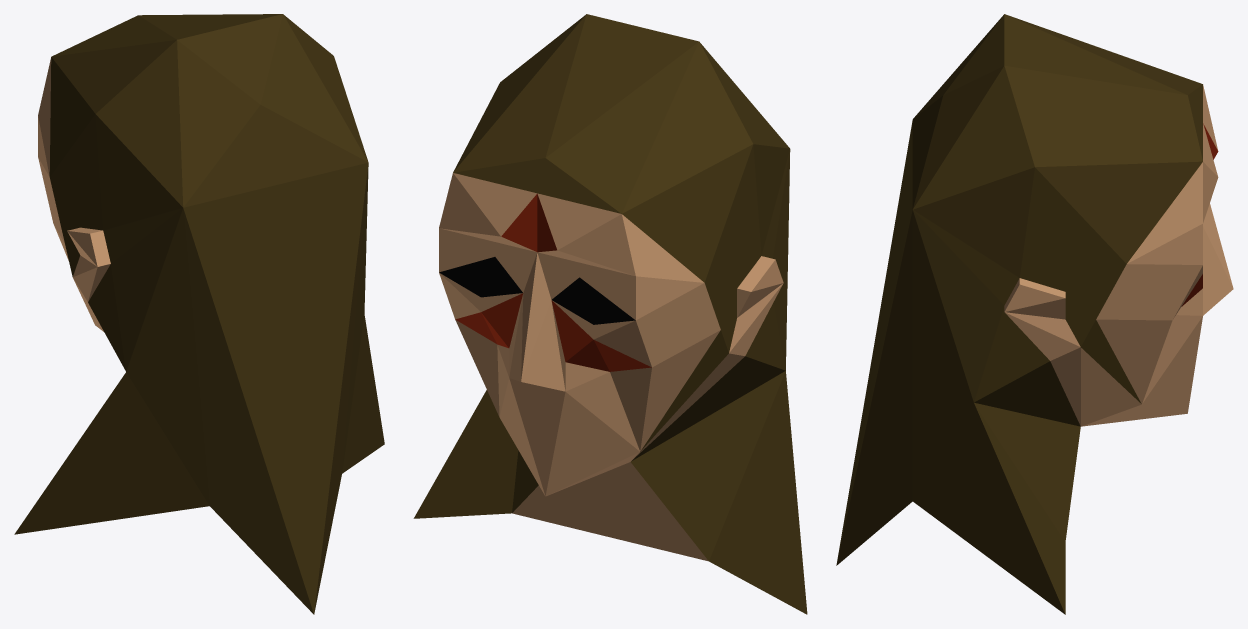
The model's file is npc_world_woman_9_0.obj.
3 views of the same model, side by side, from view 1: azimuth 30°, elevation 25°; view 2: azimuth 150°, elevation 25°; view 3: azimuth 270°, elevation 25° (orthographic). The views are drawn at different scales.
Size of the model in its own units: 0.2188 by 0.2969 by 0.2031.
